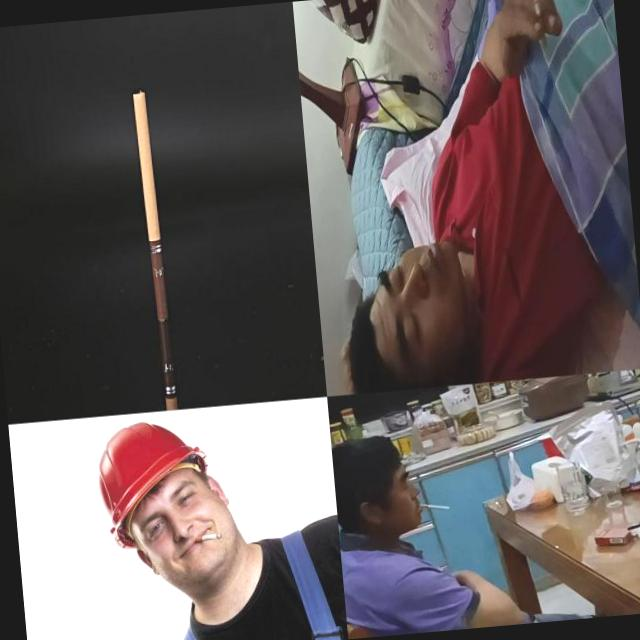cigarette: (126, 83, 172, 322), (531, 0, 546, 51), (194, 528, 225, 546), (418, 502, 449, 512)
